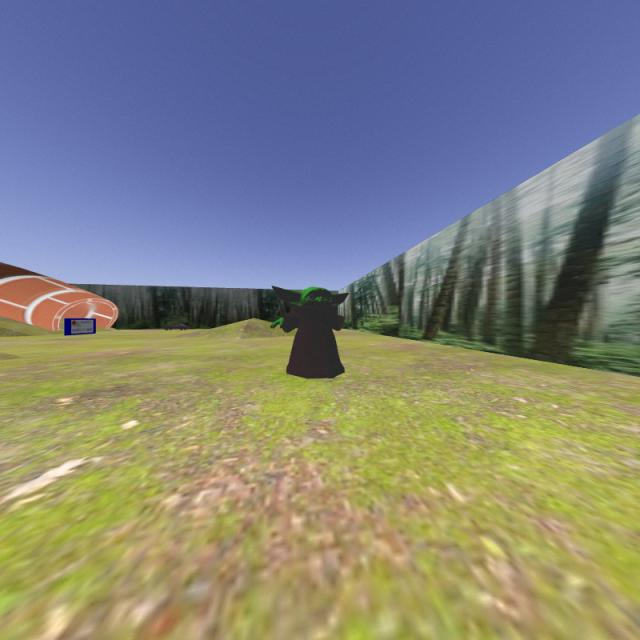yoda: (266, 283, 352, 382)
